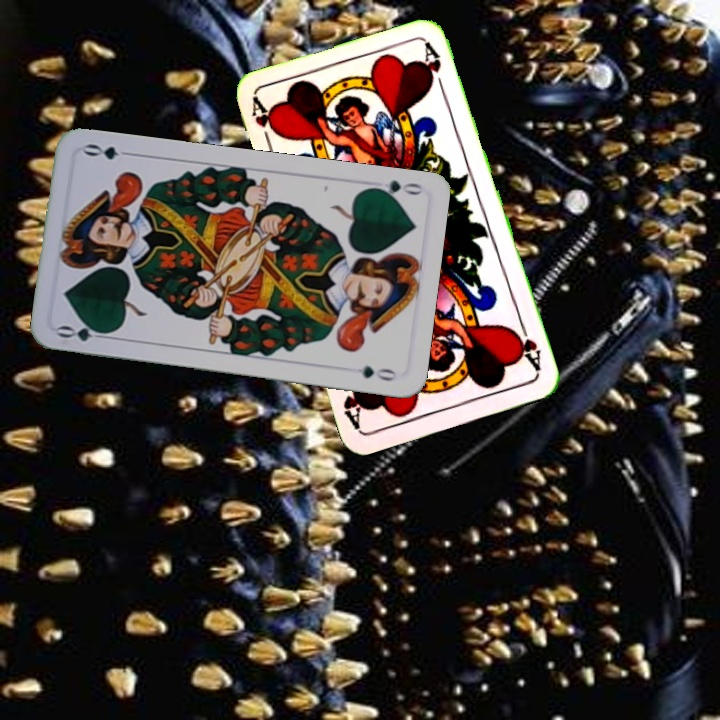GO: (365, 176, 425, 202), (54, 321, 114, 344)
HA: (247, 95, 282, 154), (508, 317, 544, 374)
